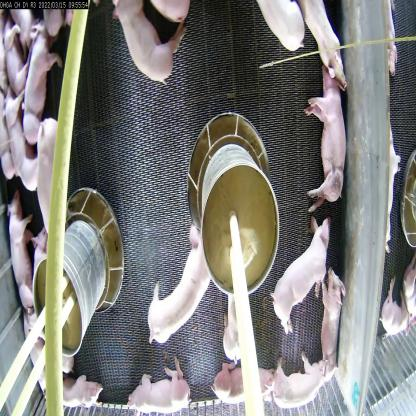Pig: (140, 221, 221, 350), (98, 0, 176, 100), (0, 66, 48, 206), (34, 113, 78, 262), (269, 225, 326, 339), (250, 340, 335, 415), (283, 0, 350, 82), (310, 69, 345, 213), (21, 20, 54, 156), (3, 206, 42, 308), (204, 356, 270, 414), (136, 361, 193, 416), (214, 280, 249, 355), (321, 259, 346, 348), (49, 375, 97, 415)
